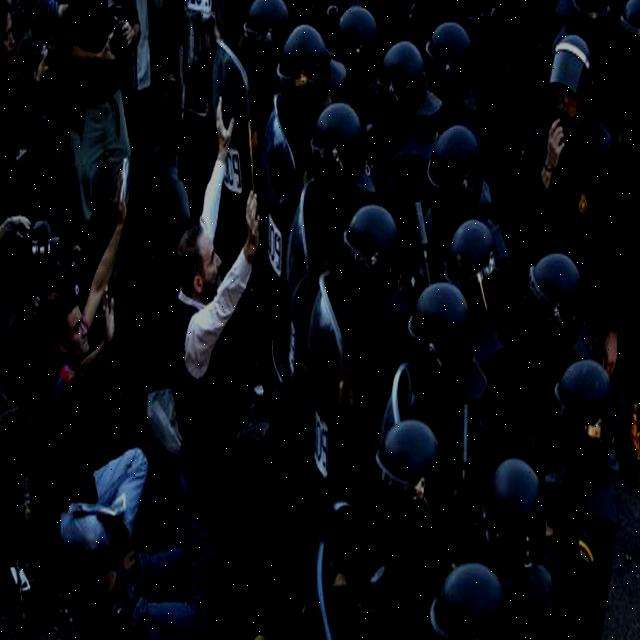police: (350, 9, 526, 640), (260, 18, 384, 640), (477, 245, 635, 640), (517, 17, 619, 391), (214, 2, 291, 497)
